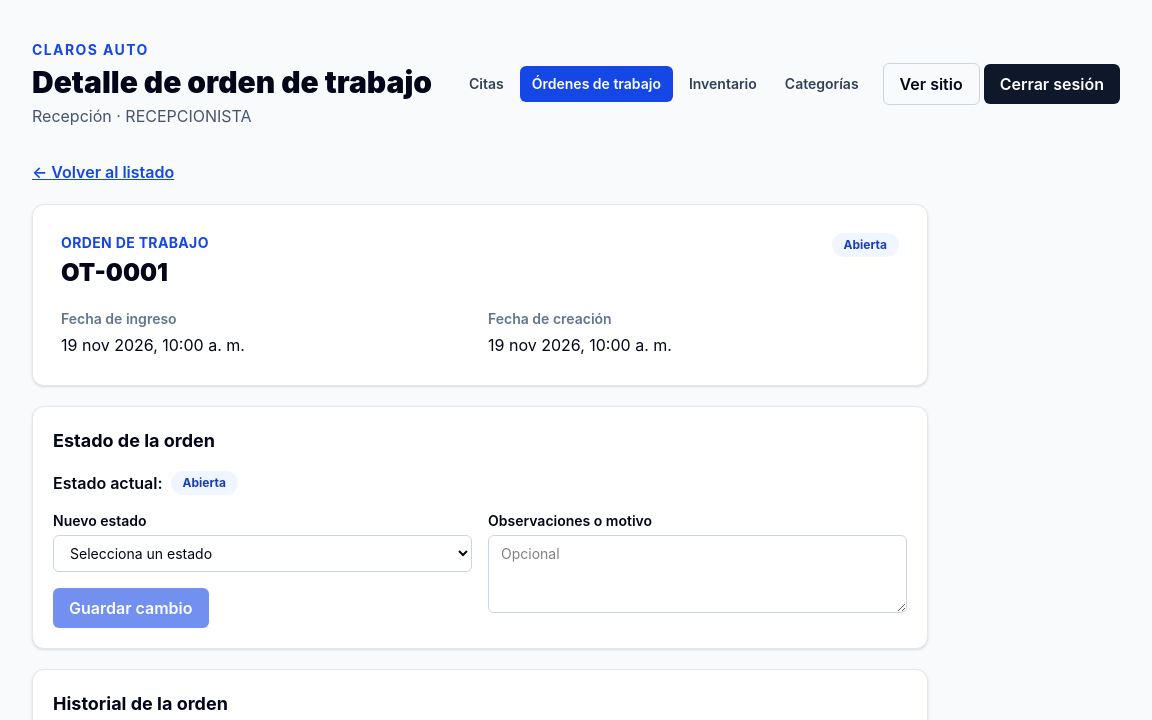
Test case: página de órdenes de trabajo › permite actualizar el estado y refresca el historial de auditoría
Step 1. Select "En diagnóstico" in the dropdown labelled "Nuevo estado" → [262, 554], box [53, 535, 472, 572]
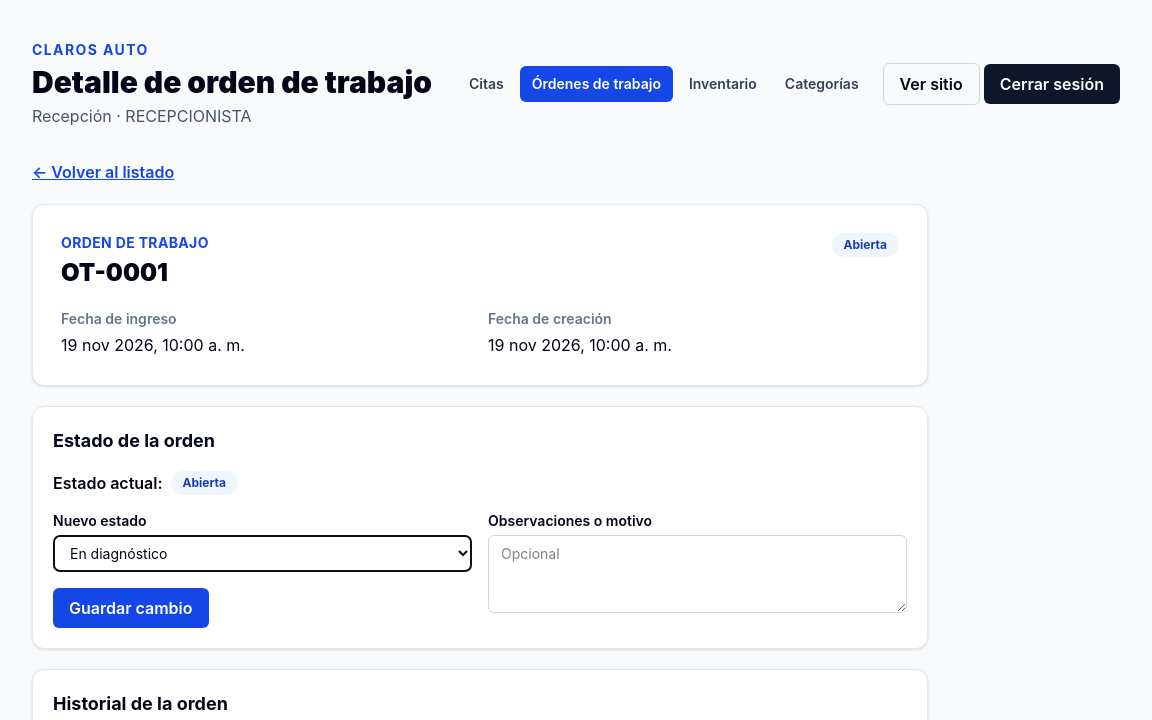
Step 2. Type "Inicia revisión" into the text box labelled "Observaciones o motivo" → [698, 574], box [488, 535, 907, 613]
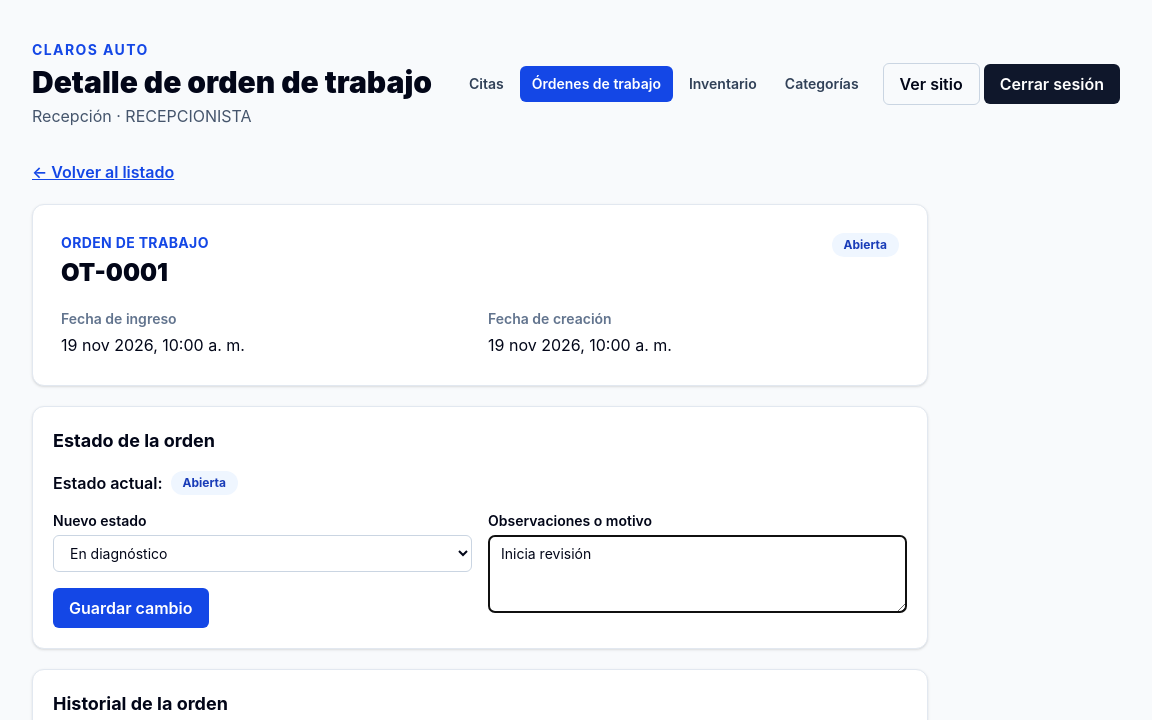
Step 3. Click the button "Guardar cambio" → [131, 608], box [53, 588, 208, 628]
(page scrolled)
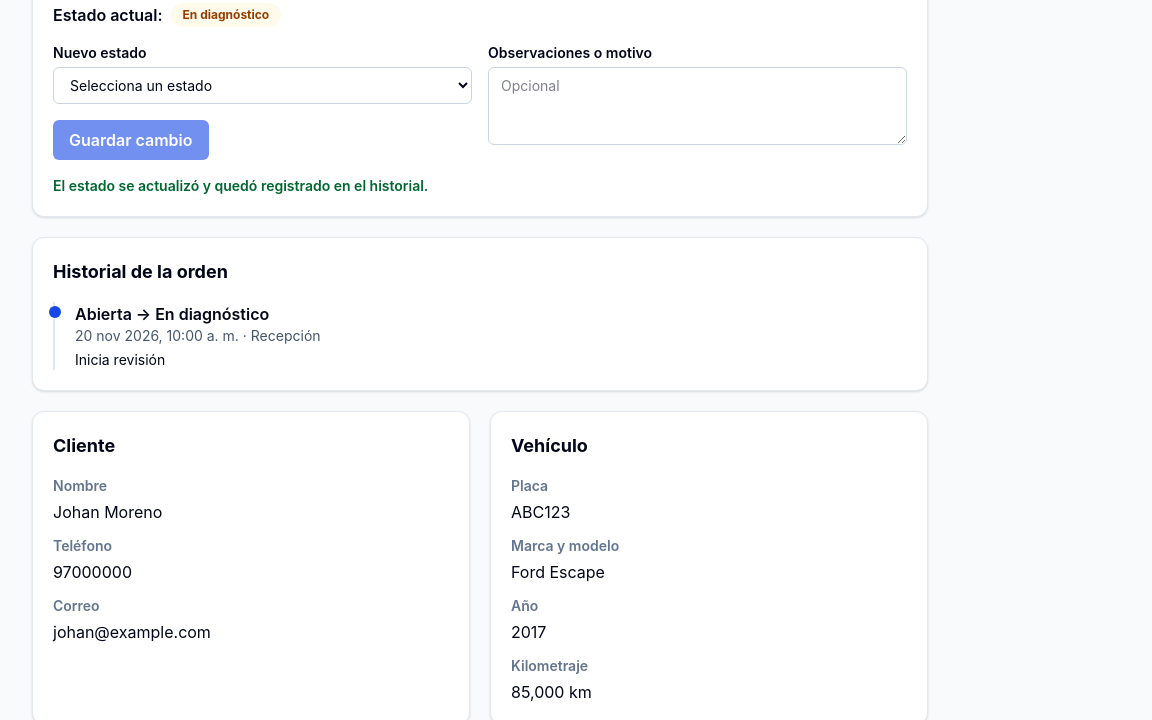
Expected: the text "El estado se actualizó y quedó registrado en el historial." is shown, [53, 177, 428, 194]
Expected: the text "Abierta → En diagnóstico" is shown, [75, 304, 269, 324]
Expected: the text "Inicia revisión" is shown, [75, 351, 165, 368]
